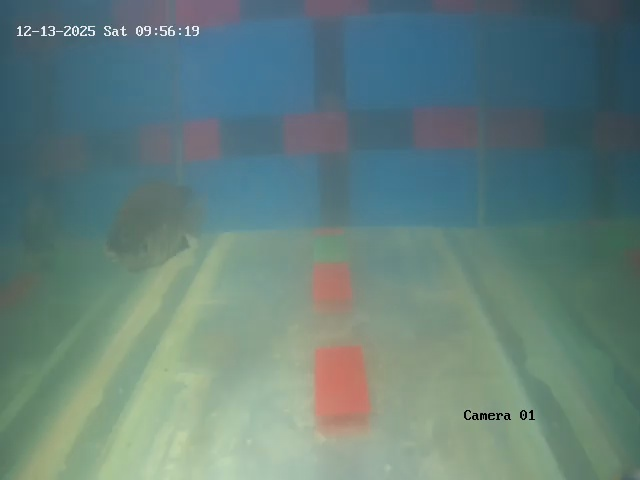fish: (91, 172, 210, 278)
